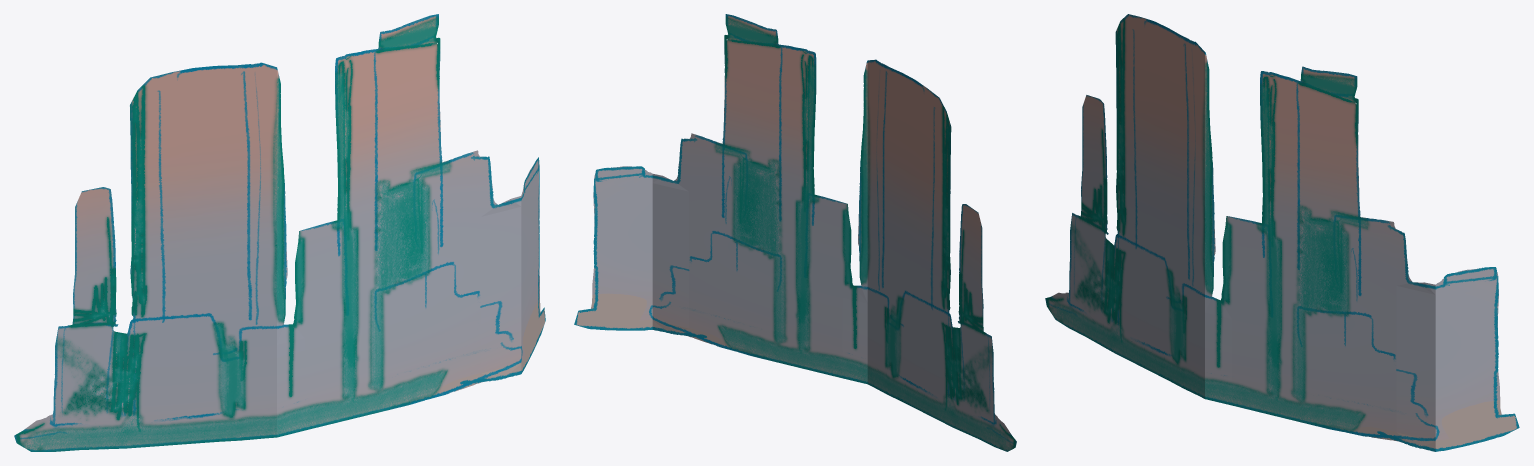
3 views of the same model, side by side, from view 1: azimuth 30°, elevation 25°; view 2: azimuth 150°, elevation 25°; view 3: azimuth 330°, elevation 25° (orthographic). The views are drawn at different scales.
Visible parts, largest first — view 1: mask18; view 2: mask18; view 3: mask18.
Boxes of the visible parts, x1,y1,x2,y2 form: mask18: (14,14,545,451); mask18: (574,14,1016,451); mask18: (1045,14,1519,451).
Size of the model in its own units: 8.85 by 6.27 by 1.36.
1 material, 1 textured.
